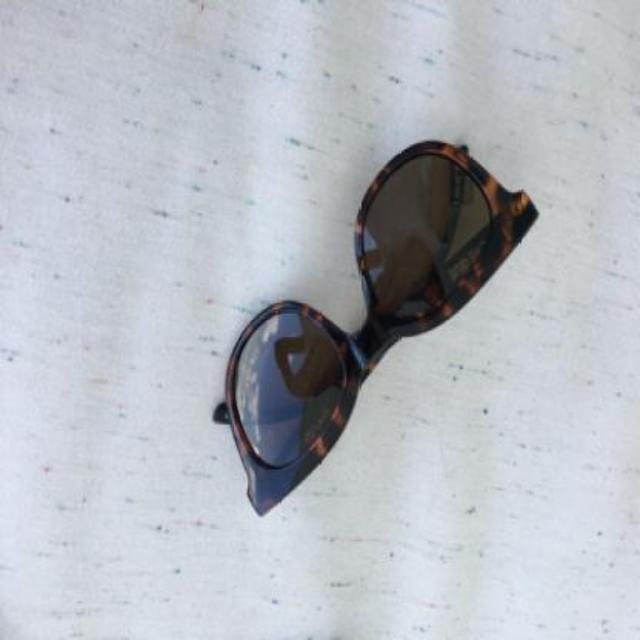sunglasses: (212, 138, 538, 518)
